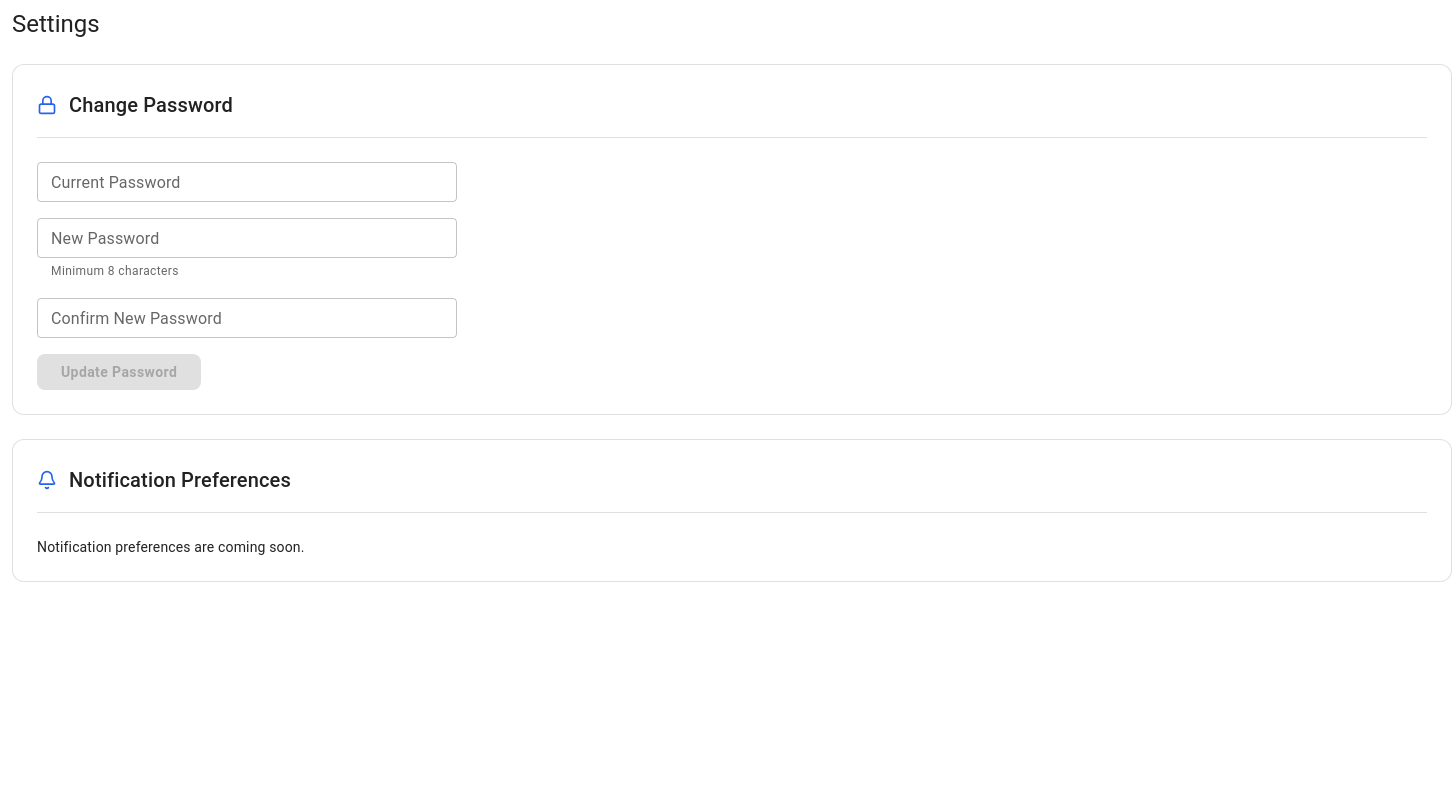
Test: Settings Component › shows error when passwords do not match
Type "oldpassword" into the password field labelled "Current Password". click: (247, 182)
box: x1=37 y1=162 x2=457 y2=202
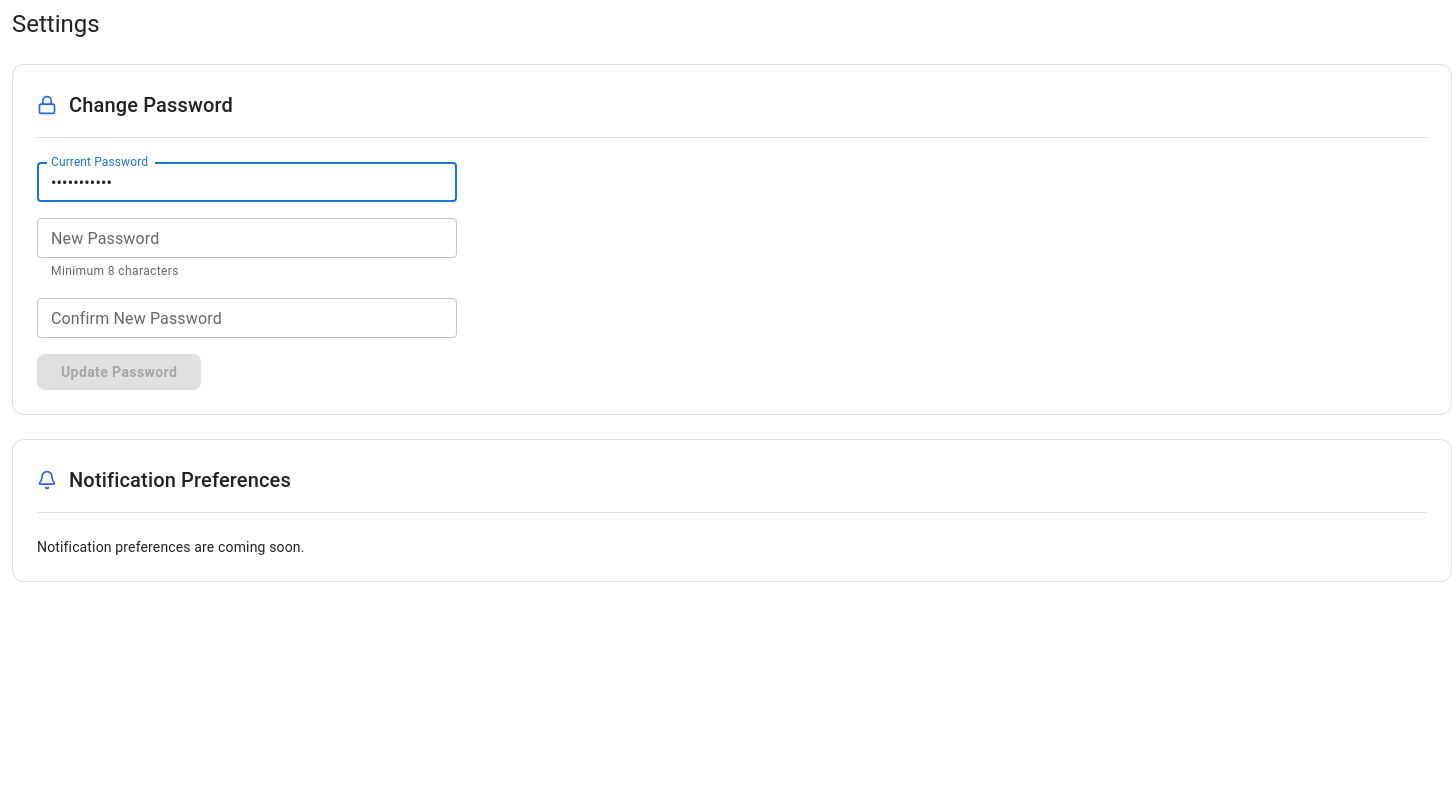
Type "newpassword123" into the password field labelled "New Password". click: (247, 238)
box: x1=37 y1=218 x2=457 y2=258
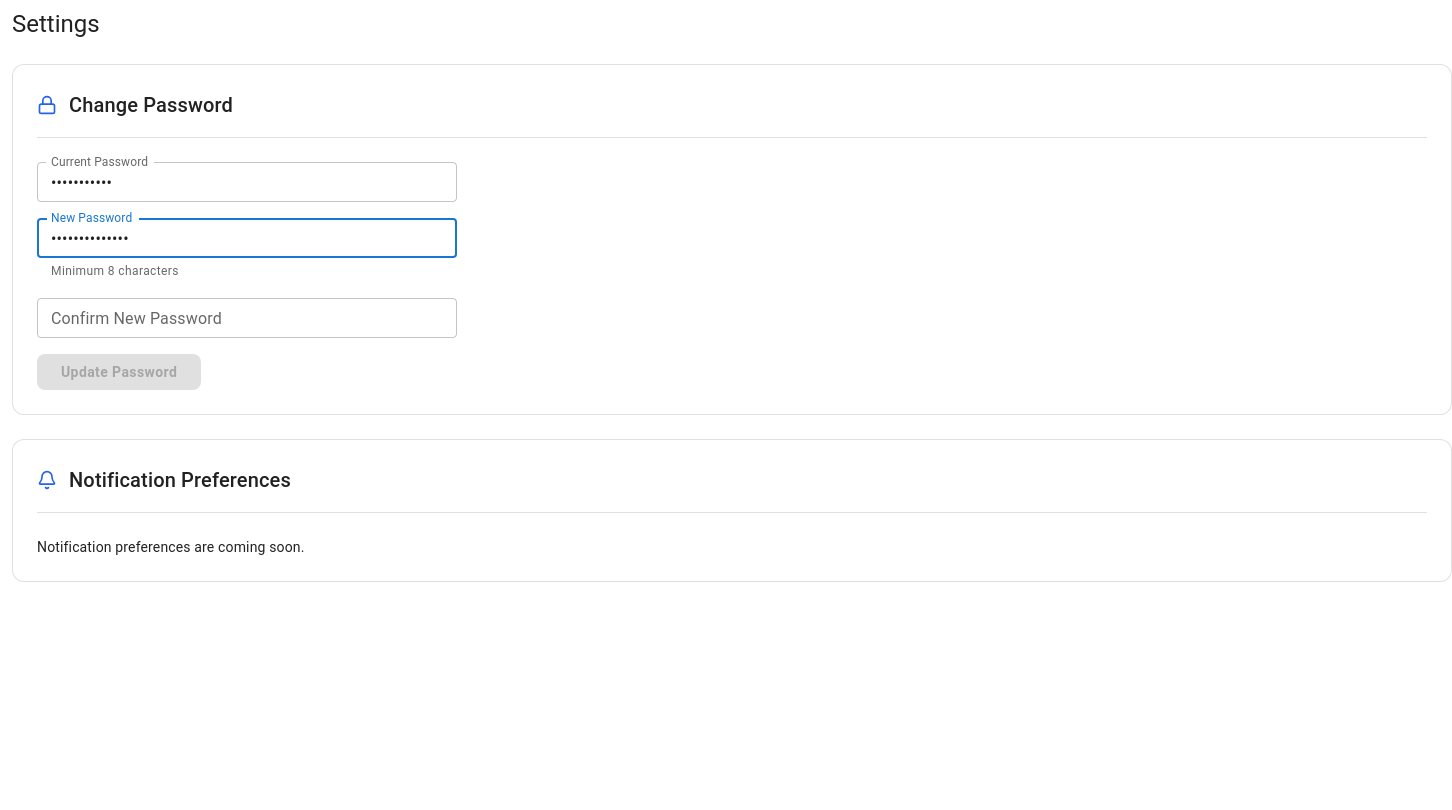
Type "different123" into the password field labelled "Confirm New Password". click: (247, 318)
box: x1=37 y1=298 x2=457 y2=338
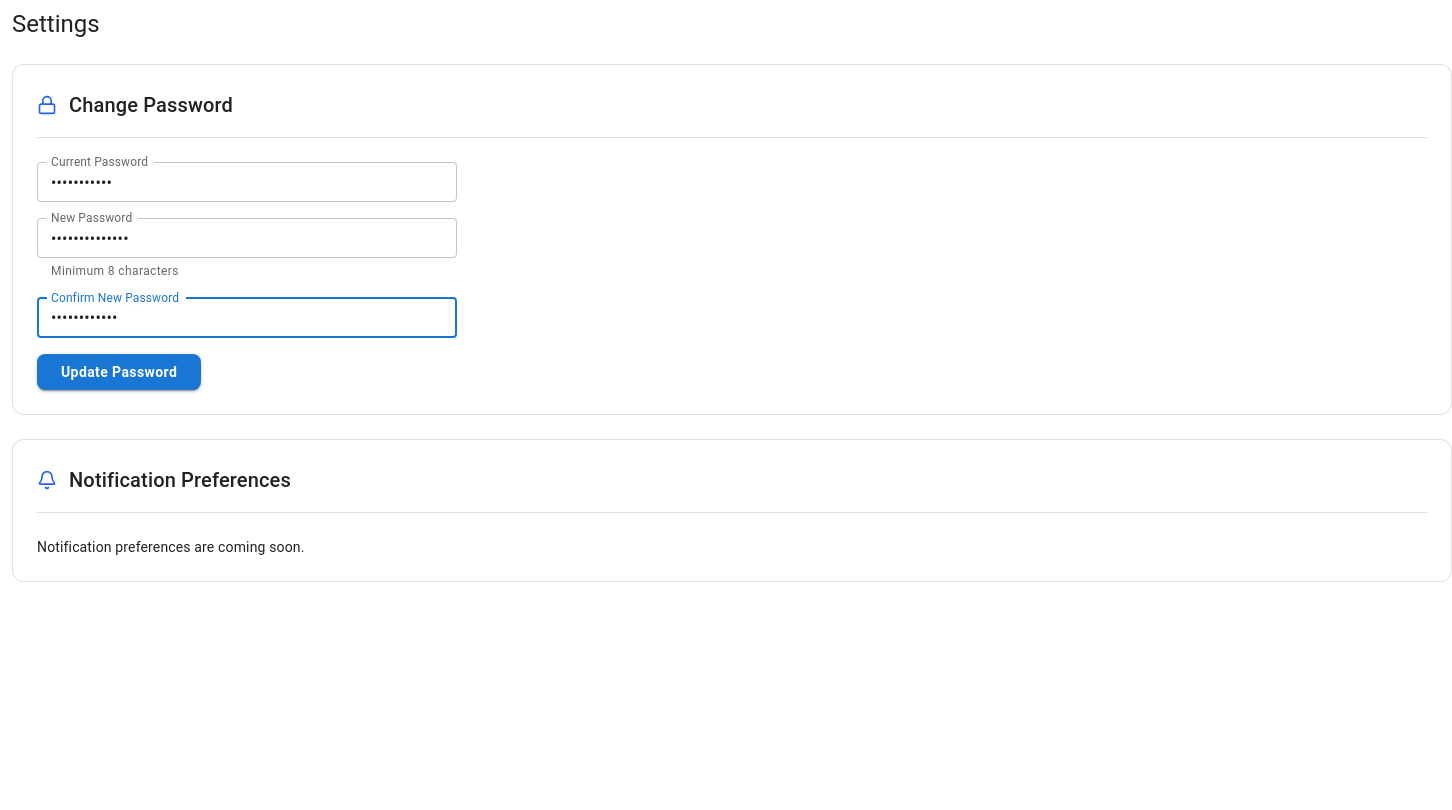
Click the button "Update Password". click: (119, 372)
box: x1=37 y1=354 x2=201 y2=390
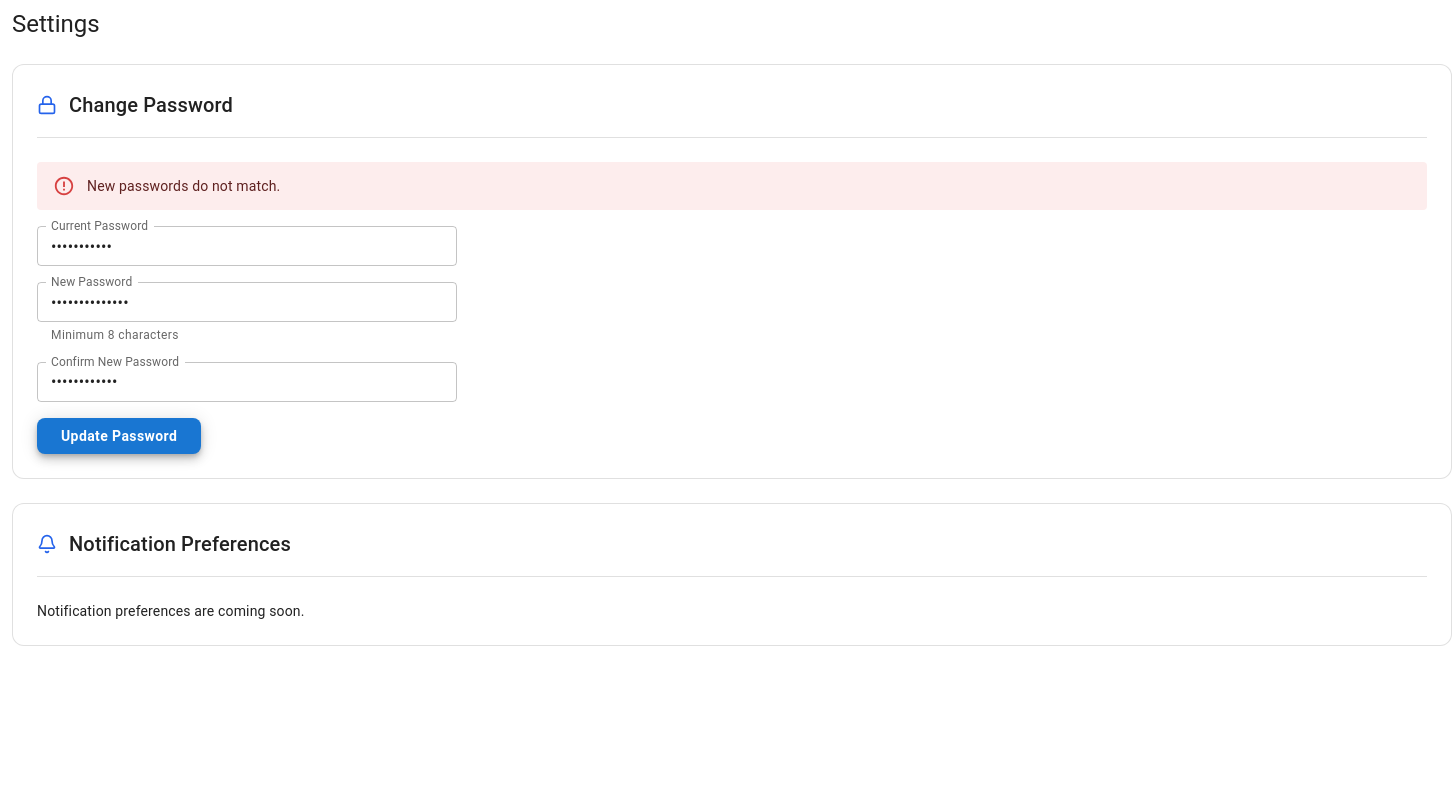
Expected: the text "New passwords do not match." is shown, x1=87 y1=178 x2=280 y2=194
